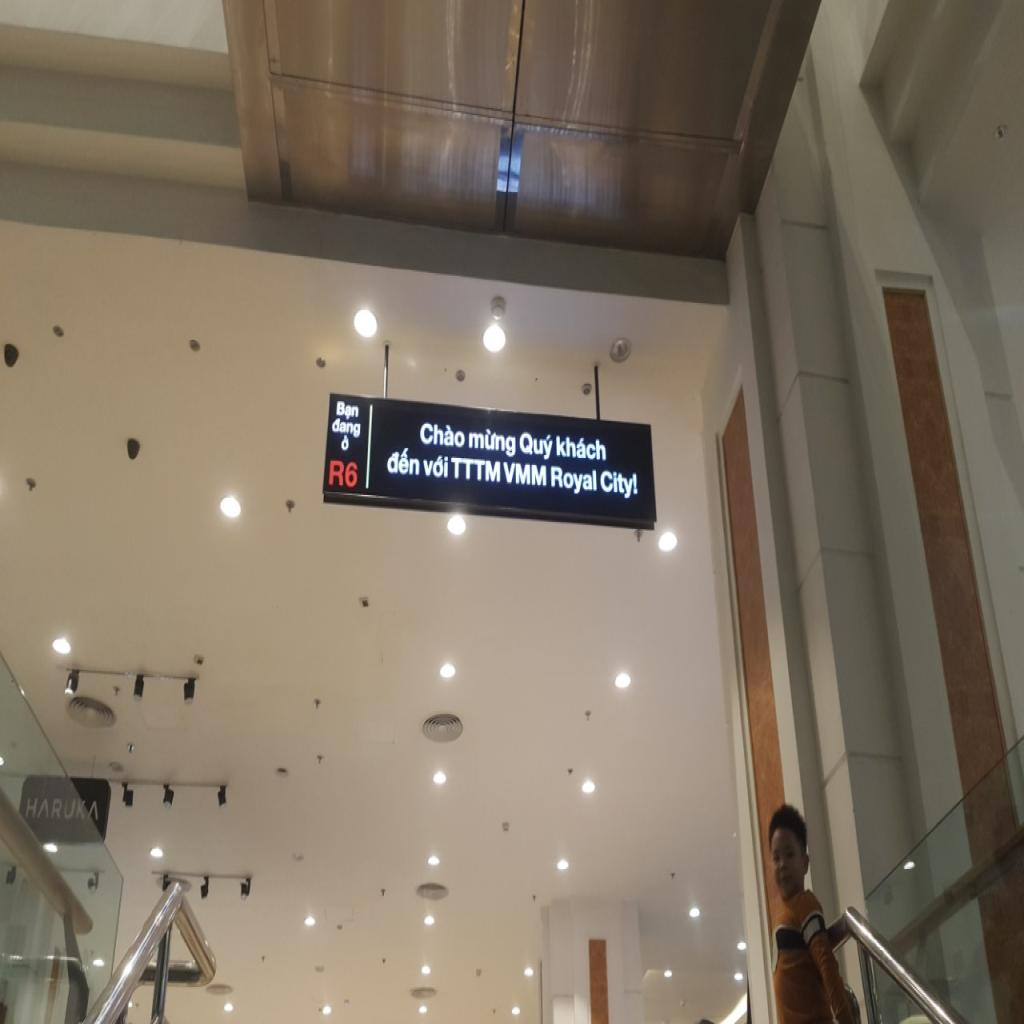text: (467, 425, 518, 461), (554, 432, 608, 465), (550, 465, 598, 498), (420, 417, 466, 451), (600, 466, 640, 504), (450, 455, 502, 484), (518, 426, 555, 464), (502, 461, 547, 489), (384, 445, 422, 478), (326, 455, 360, 491), (422, 450, 450, 482), (330, 418, 364, 441), (334, 400, 362, 424), (338, 434, 352, 454)
